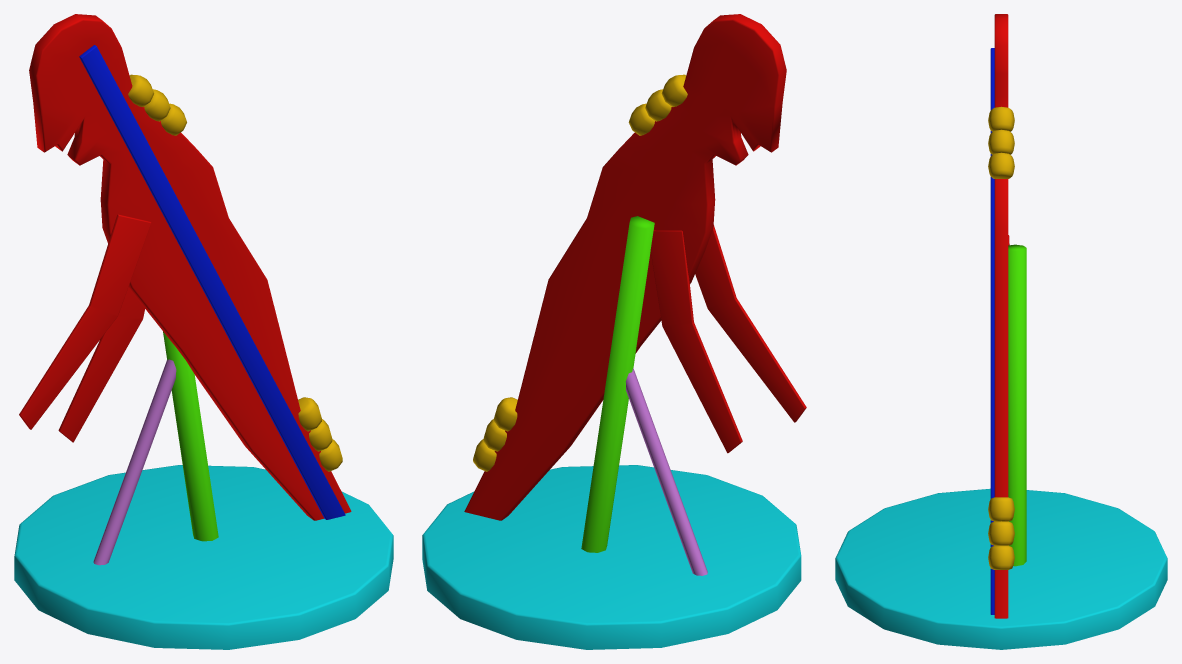
File: DummyTitanAndBase.fbx
The picture shows the model from 3 angles, left to right: view 1: azimuth 30°, elevation 25°; view 2: azimuth 150°, elevation 25°; view 3: azimuth 270°, elevation 25°; orthographic projection. The views are drawn at different scales.
Visible parts, largest first — view 1: Body, Base; view 2: Base, Body; view 3: Base, Body.
Part boxes in pixels (x1,y1,x2,y2): Body: (19, 14, 351, 520); Base: (14, 331, 393, 649); Base: (422, 216, 801, 649); Body: (464, 14, 806, 520); Base: (835, 244, 1167, 649); Body: (988, 14, 1014, 618).
Bounding box in the file's own units: 93.07 × 146 × 86.89.
